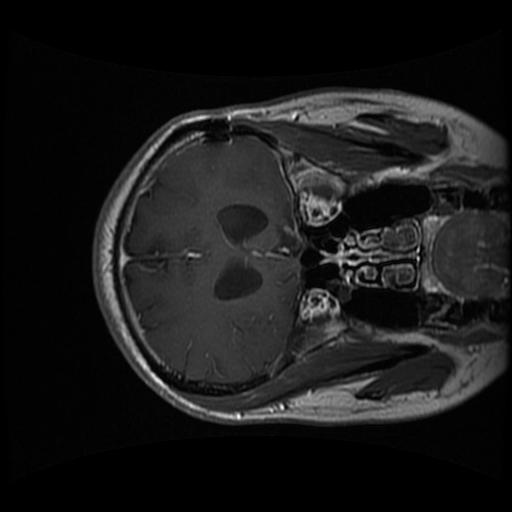glioma: (269, 219, 303, 261)
